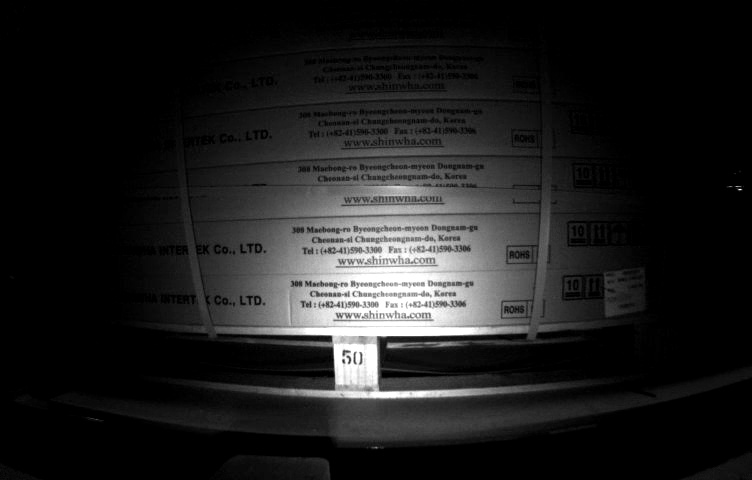True Barcode: (601, 266, 650, 318)
